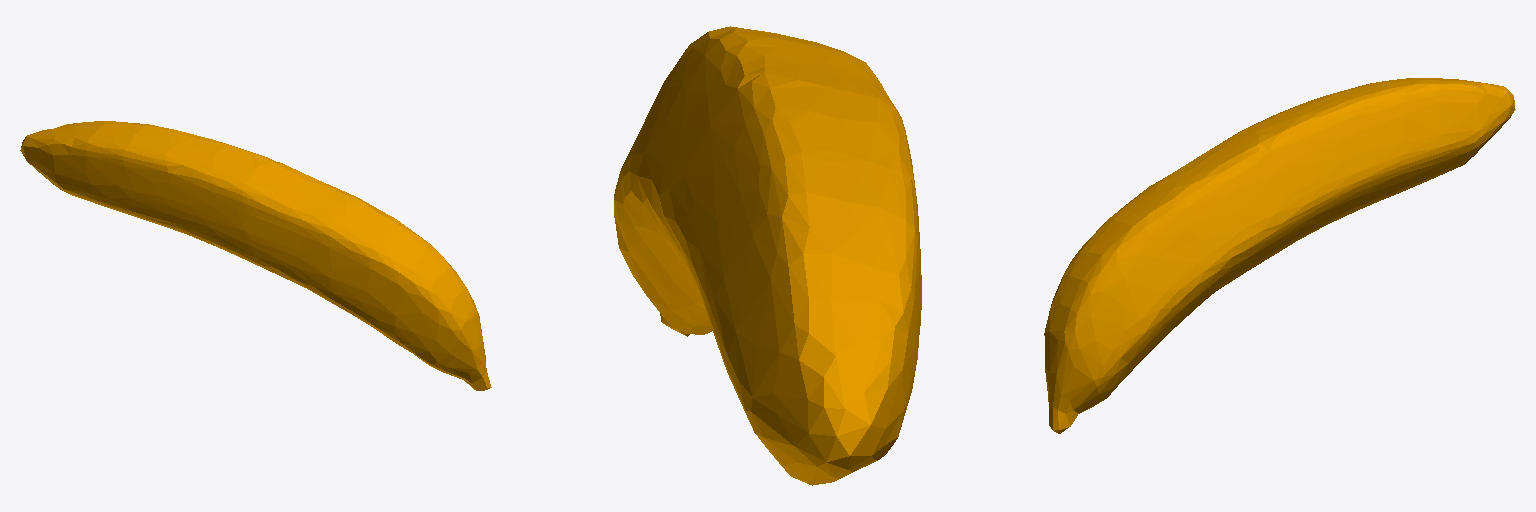
The robot description file, URDF, robot "banana_poisson_000":
<?xml version="1.0"?>
<robot name="banana_poisson_000">
  <link name="base_link">
    <contact>
      <lateral_friction value="1.0"/>
      <rolling_friction value="0.0"/>
      <contact_cfm value="0.0"/>
      <contact_erp value="1.0"/>
    </contact>
    <inertial>
      <mass value="0.186563870246"/>
      <inertia ixx="1" ixy="0" ixz="0" iyy="1" iyz="0" izz="1"/>
    </inertial>
    <visual>
      <geometry>
        <mesh filename="banana_poisson_000_visual.obj"/>
      </geometry>
    </visual>
    <collision>
      <geometry>
        <mesh filename="banana_poisson_000_collision.obj"/>
      </geometry>
    </collision>
  </link>
</robot>

--- Render facts (derived) ---
3 views of the same robot in one strip: view 1: azimuth 30°, elevation 25°; view 2: azimuth 150°, elevation 25°; view 3: azimuth 270°, elevation 25° (orthographic).
Robot: banana_poisson_000 — 1 links, 0 joints (none); root link base_link; default pose: all joints at 0.
Links seen in each view (by area): view 1: base_link; view 2: base_link; view 3: base_link.
Link boxes in pixels (x1=…): base_link: x1=20, y1=121, x2=491, y2=390; base_link: x1=614, y1=26, x2=921, y2=485; base_link: x1=1044, y1=78, x2=1515, y2=433.
Bounding box of the posed robot: 0.07 × 0.0912 × 0.0504 m (x, y, z).
1 mesh visuals loaded from 1 distinct referenced files (1 OBJ).